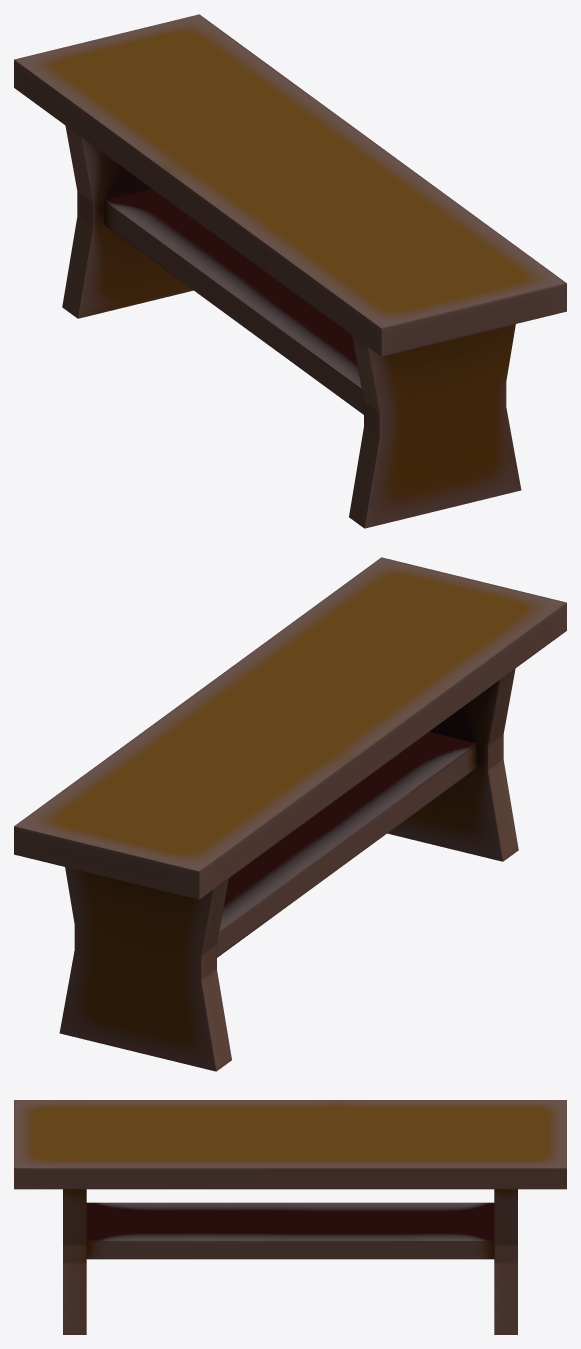
Rendered from bank.fbx.
3 views of the same model, one above another, from view 1: azimuth 30°, elevation 25°; view 2: azimuth 150°, elevation 25°; view 3: azimuth 270°, elevation 25° (orthographic). The views are drawn at different scales.
Visible parts, largest first — view 1: Cube.042; view 2: Cube.042; view 3: Cube.042.
Boxes of the visible parts, <box> form: Cube.042: <box>14,14,566,528</box>; Cube.042: <box>14,557,566,1071</box>; Cube.042: <box>14,1100,566,1334</box>.
Bounding box in the file's own units: 165 × 194 × 566.
